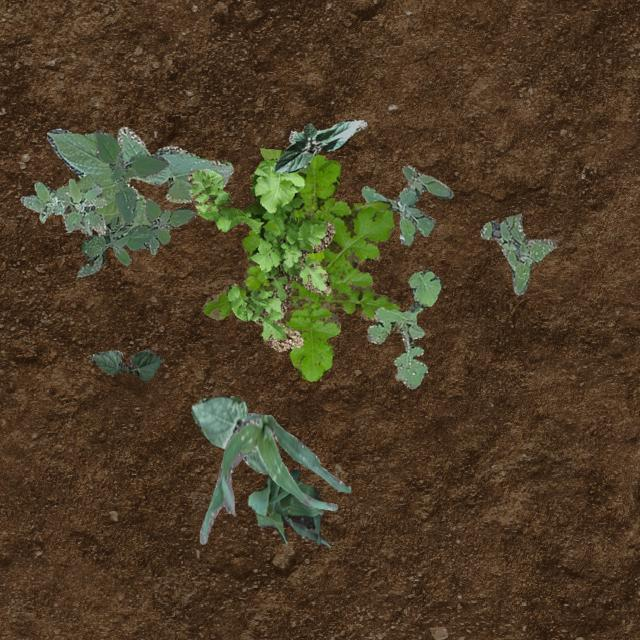crop: (46, 126, 232, 234), (198, 412, 349, 542), (246, 468, 328, 546), (190, 394, 268, 474), (272, 119, 366, 172), (88, 348, 162, 381)
weed: (200, 146, 398, 380), (186, 157, 334, 350), (76, 128, 196, 276), (366, 268, 441, 388), (361, 164, 452, 243), (478, 212, 556, 294), (20, 178, 106, 235)
